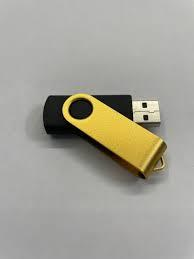Flash-drive: (21, 71, 180, 184)
